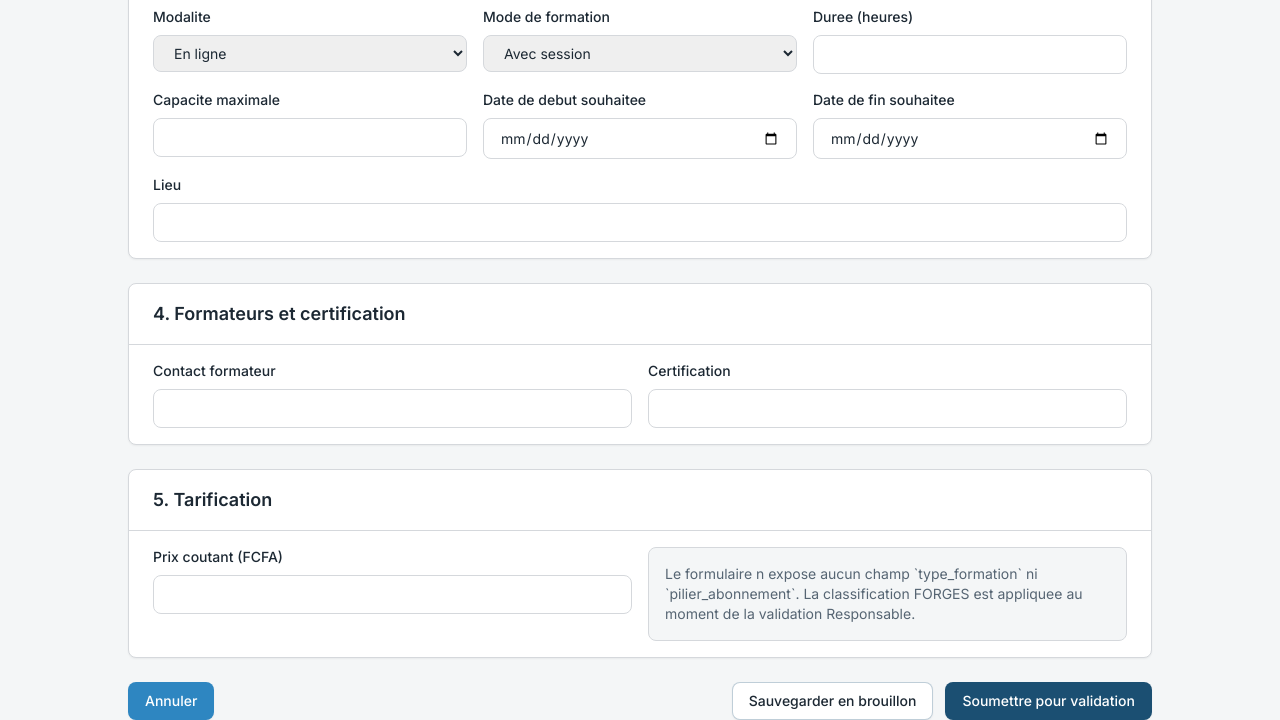
Test case: SoumettreFormation › bloque la soumission incomplete avant appel API
(page scrolled)
Step 1. Click the button "Soumettre pour validation" → (1049, 701), box [945, 682, 1152, 719]
(page scrolled)
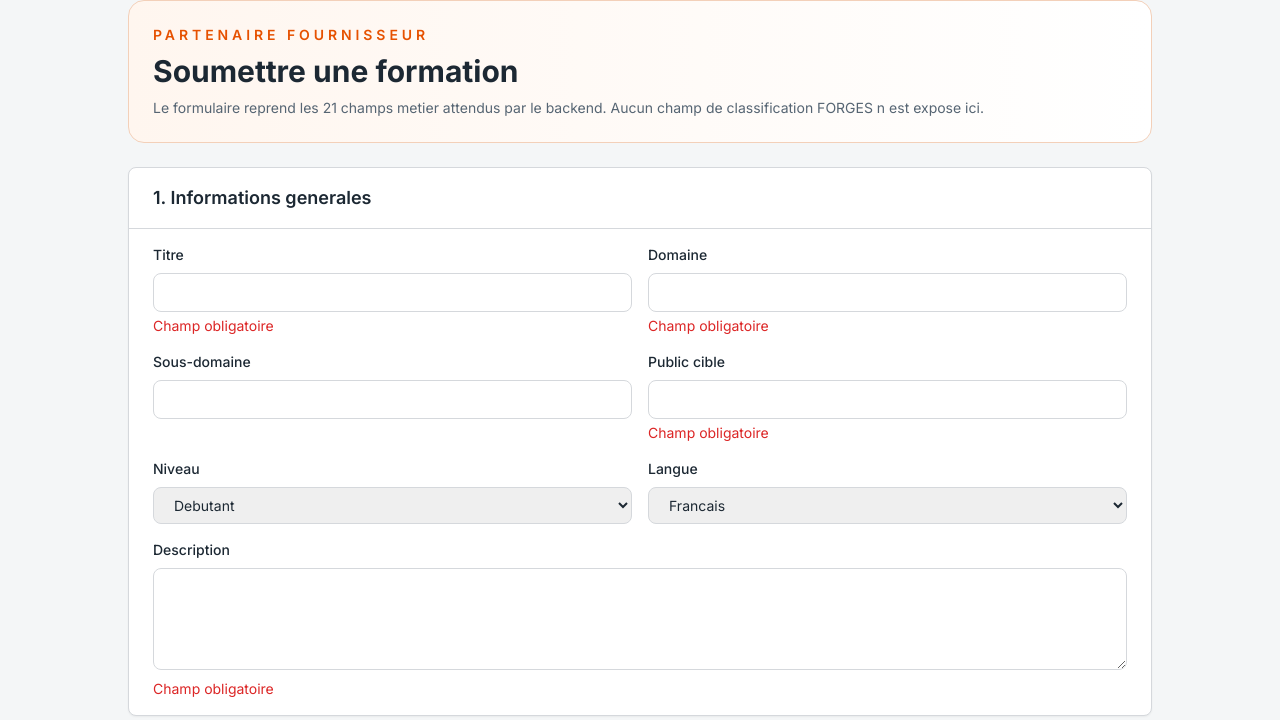
Now the text "Champ obligatoire" below "Titre" is shown, box [153, 317, 274, 334]
